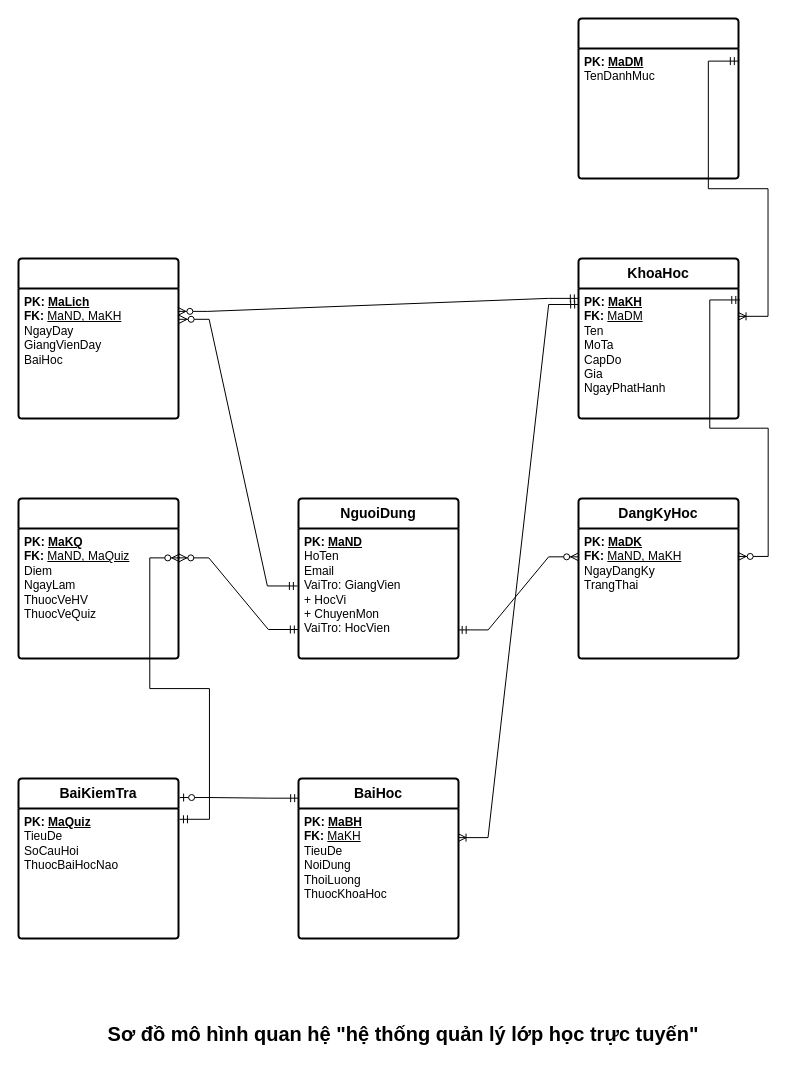
Some shapes in this 795 by 1065 pixel diagram are drawn without their labels. Here are the shapes that lost their labels. From the top down, the box of each, then its label:
(577, 17, 739, 179): DanhMucKH
(17, 257, 179, 419): LichGiangDay
(17, 497, 179, 659): KetQua
